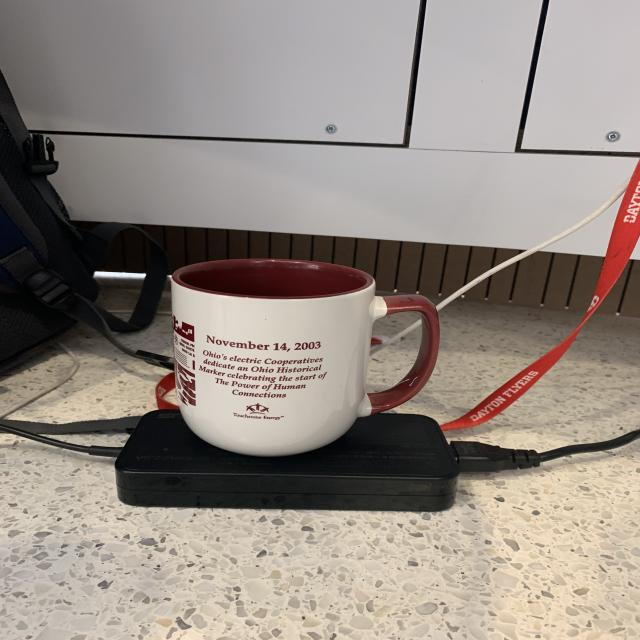Cup: (163, 247, 453, 463)
